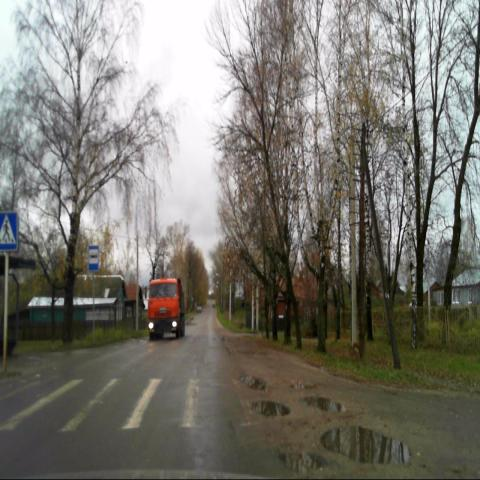5_16: (88, 244, 98, 271)
5_19_1: (0, 210, 18, 251)
